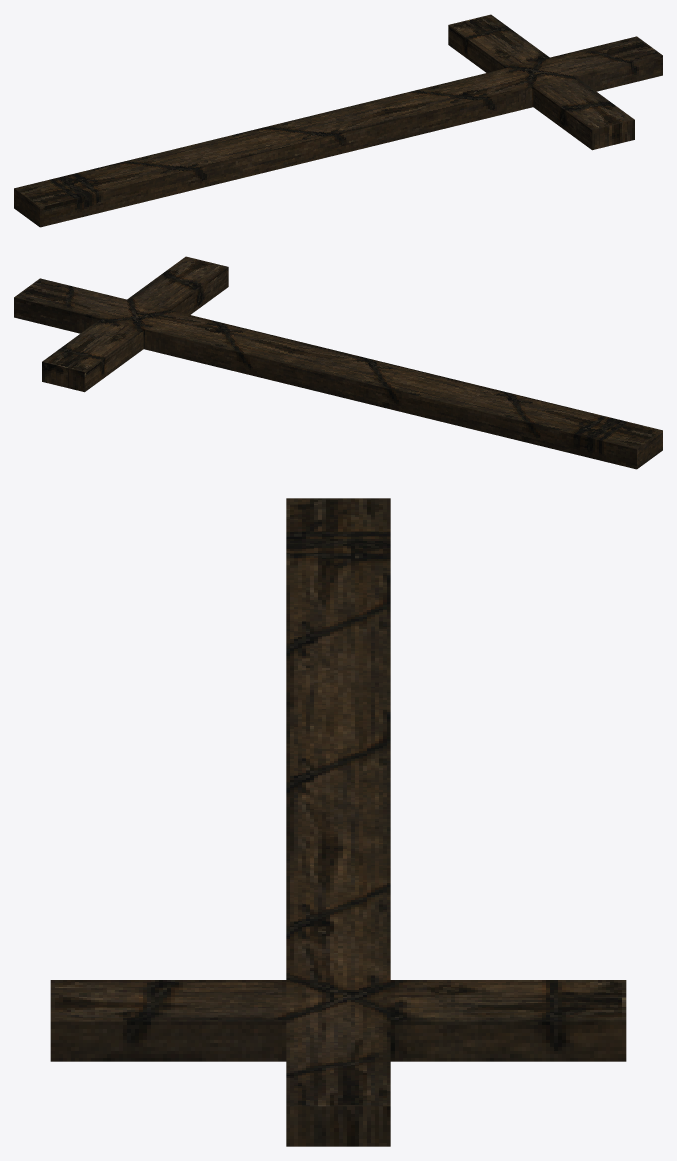
Rendered from melee_cross_mx_1.glb.
The picture shows the model from 3 angles, top to bottom: view 1: azimuth 30°, elevation 25°; view 2: azimuth 150°, elevation 25°; view 3: azimuth 270°, elevation 25°; orthographic projection. The views are drawn at different scales.
Parts seen in each view (by area): view 1: melee_cross_mx_1; view 2: melee_cross_mx_1; view 3: melee_cross_mx_1.
Boxes of the visible parts, box(x1,y1,x2,y2) form: melee_cross_mx_1: box(14, 14, 662, 227); melee_cross_mx_1: box(14, 256, 662, 469); melee_cross_mx_1: box(50, 498, 626, 1146).
Size of the model in its own units: 0.91 by 0.028 by 0.364.
Materials: 1 (1 with a texture image).
